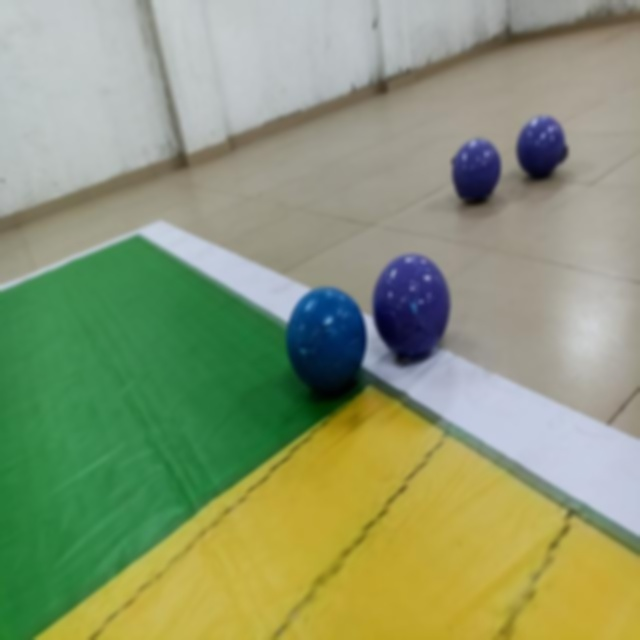blue_ball: (288, 286, 366, 388)
purple_ball: (376, 252, 450, 358), (450, 138, 502, 203), (520, 118, 566, 178)
